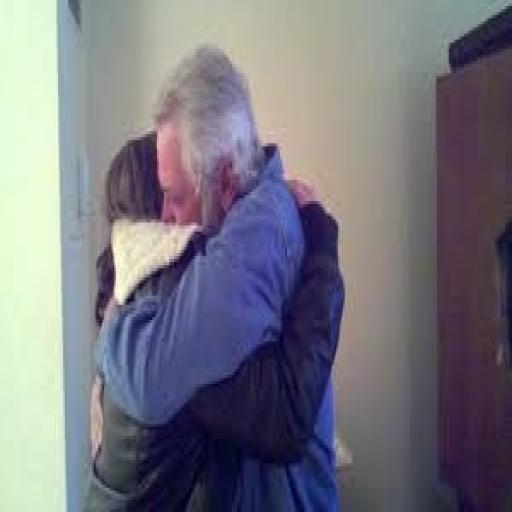hugging: (82, 40, 348, 509)
